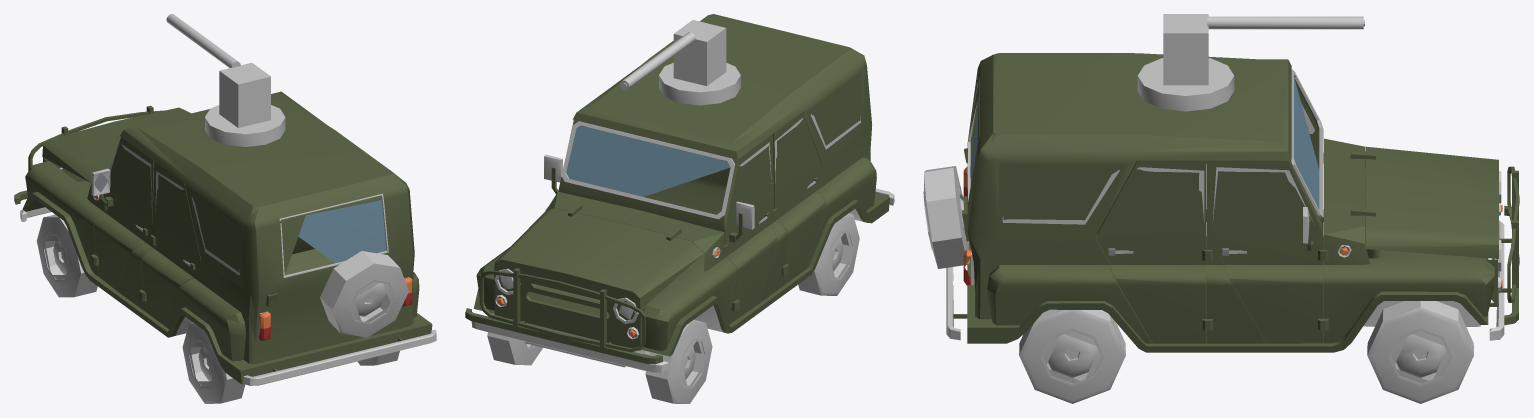
The model's file is wolf_110_m2.obj.
3 renders of one model, left to right at view 1: azimuth 30°, elevation 25°; view 2: azimuth 150°, elevation 25°; view 3: azimuth 270°, elevation 25°, orthographic. The views are drawn at different scales.
Parts seen in each view (by area): view 1: model; view 2: model; view 3: model.
Boxes of the visible parts, left/top/right/bottom form: model: left=14, top=14, right=436, bottom=403; model: left=465, top=14, right=894, bottom=403; model: left=923, top=14, right=1519, bottom=403.
Bounding box in the file's own units: 2 × 2.6 × 4.2.
